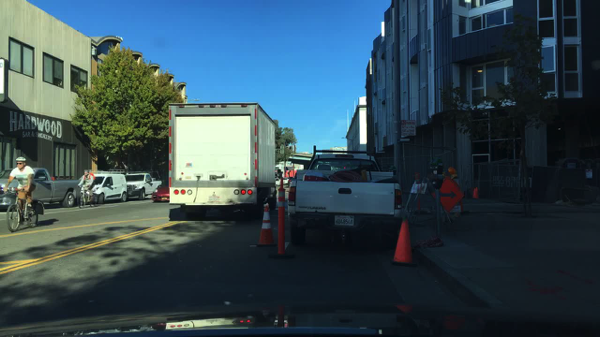bike: (4, 186, 45, 234), (77, 184, 97, 208)
car: (77, 169, 130, 204), (151, 181, 169, 204), (280, 176, 289, 185), (274, 178, 281, 187)
person: (447, 166, 460, 185)
rider: (2, 156, 37, 220), (76, 169, 95, 197)
traffic sign: (431, 177, 464, 212), (399, 119, 416, 137), (585, 169, 592, 180), (398, 138, 409, 142)
truck: (167, 103, 277, 220), (287, 145, 403, 247), (0, 167, 81, 211), (124, 170, 162, 200)
